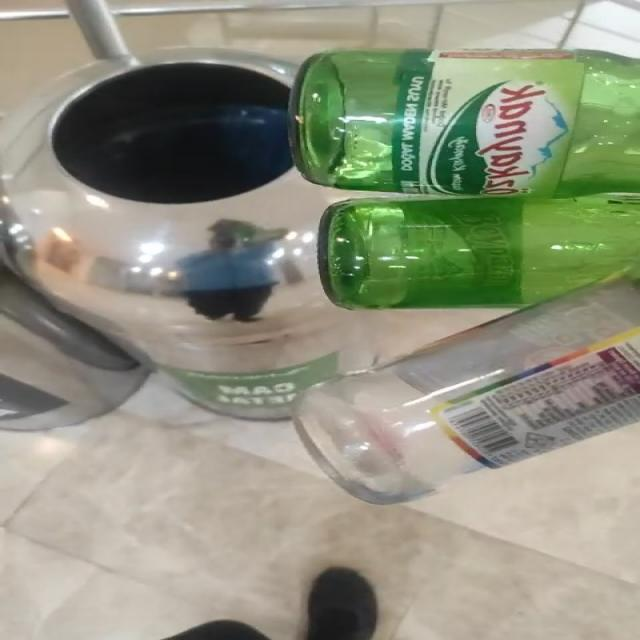glass: (291, 49, 640, 504)
